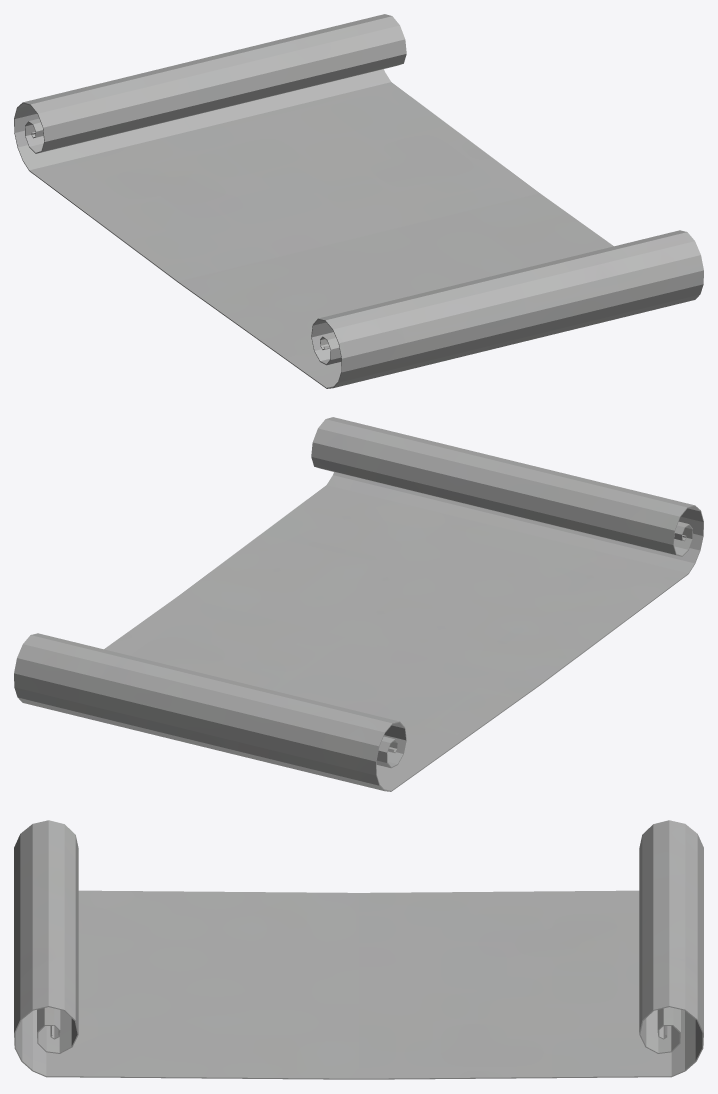
File: Crumpled_Paper.fbx
3 views of the same model, one above another, from view 1: azimuth 30°, elevation 25°; view 2: azimuth 150°, elevation 25°; view 3: azimuth 270°, elevation 25° (orthographic). The views are drawn at different scales.
Visible parts, largest first — view 1: Crumpled Paper; view 2: Crumpled Paper; view 3: Crumpled Paper.
Part boxes in pixels (x1=…): Crumpled Paper: x1=14, y1=14, x2=703, y2=388; Crumpled Paper: x1=14, y1=417, x2=703, y2=791; Crumpled Paper: x1=14, y1=820, x2=703, y2=1079.
Bounding box in the file's own units: 19.27 × 3.57 × 30.24.
